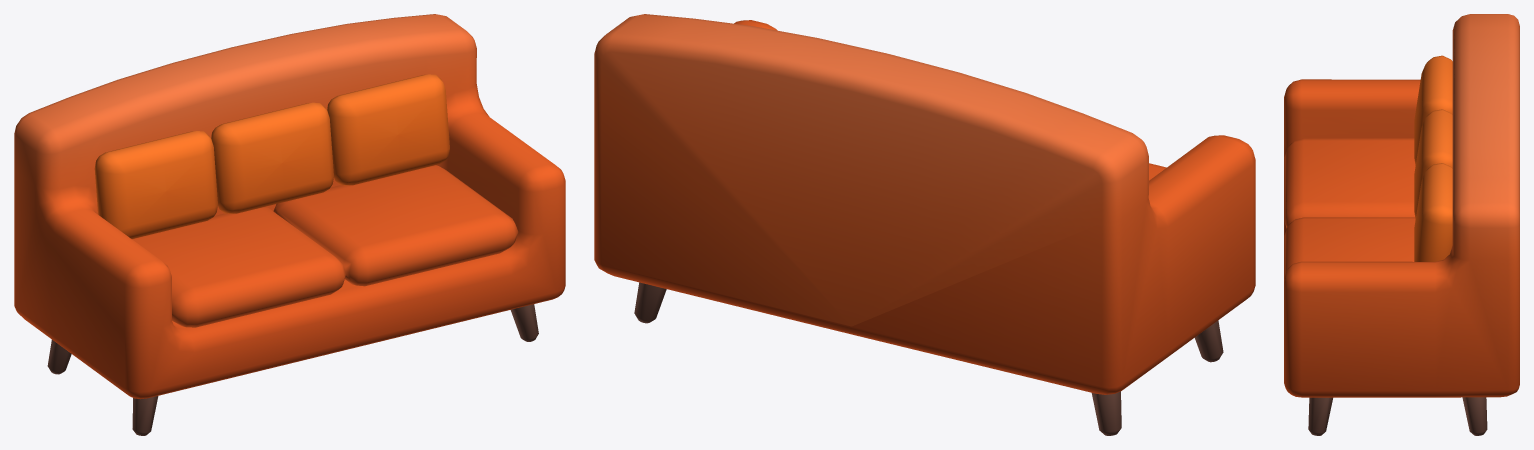
Rendered from Couch_12.glb.
The picture shows the model from 3 angles, left to right: view 1: azimuth 30°, elevation 25°; view 2: azimuth 150°, elevation 25°; view 3: azimuth 270°, elevation 25°; orthographic projection. The views are drawn at different scales.
Parts seen in each view (by area): view 1: Couch_12; view 2: Couch_12; view 3: Couch_12.
Boxes of the visible parts, box(x1,y1,x2,y2) form: Couch_12: box(14, 14, 565, 435); Couch_12: box(594, 14, 1255, 435); Couch_12: box(1284, 14, 1519, 435).
Bounding box in the file's own units: 1.65 × 0.9575 × 0.81.
Materials: 1 (1 with a texture image).
